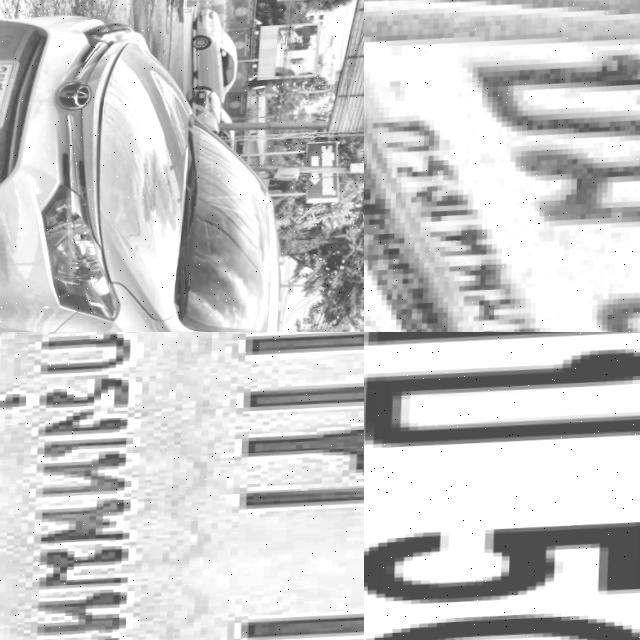license-plate: (0, 332, 364, 640), (364, 0, 640, 332), (364, 332, 640, 640), (0, 58, 28, 136)
